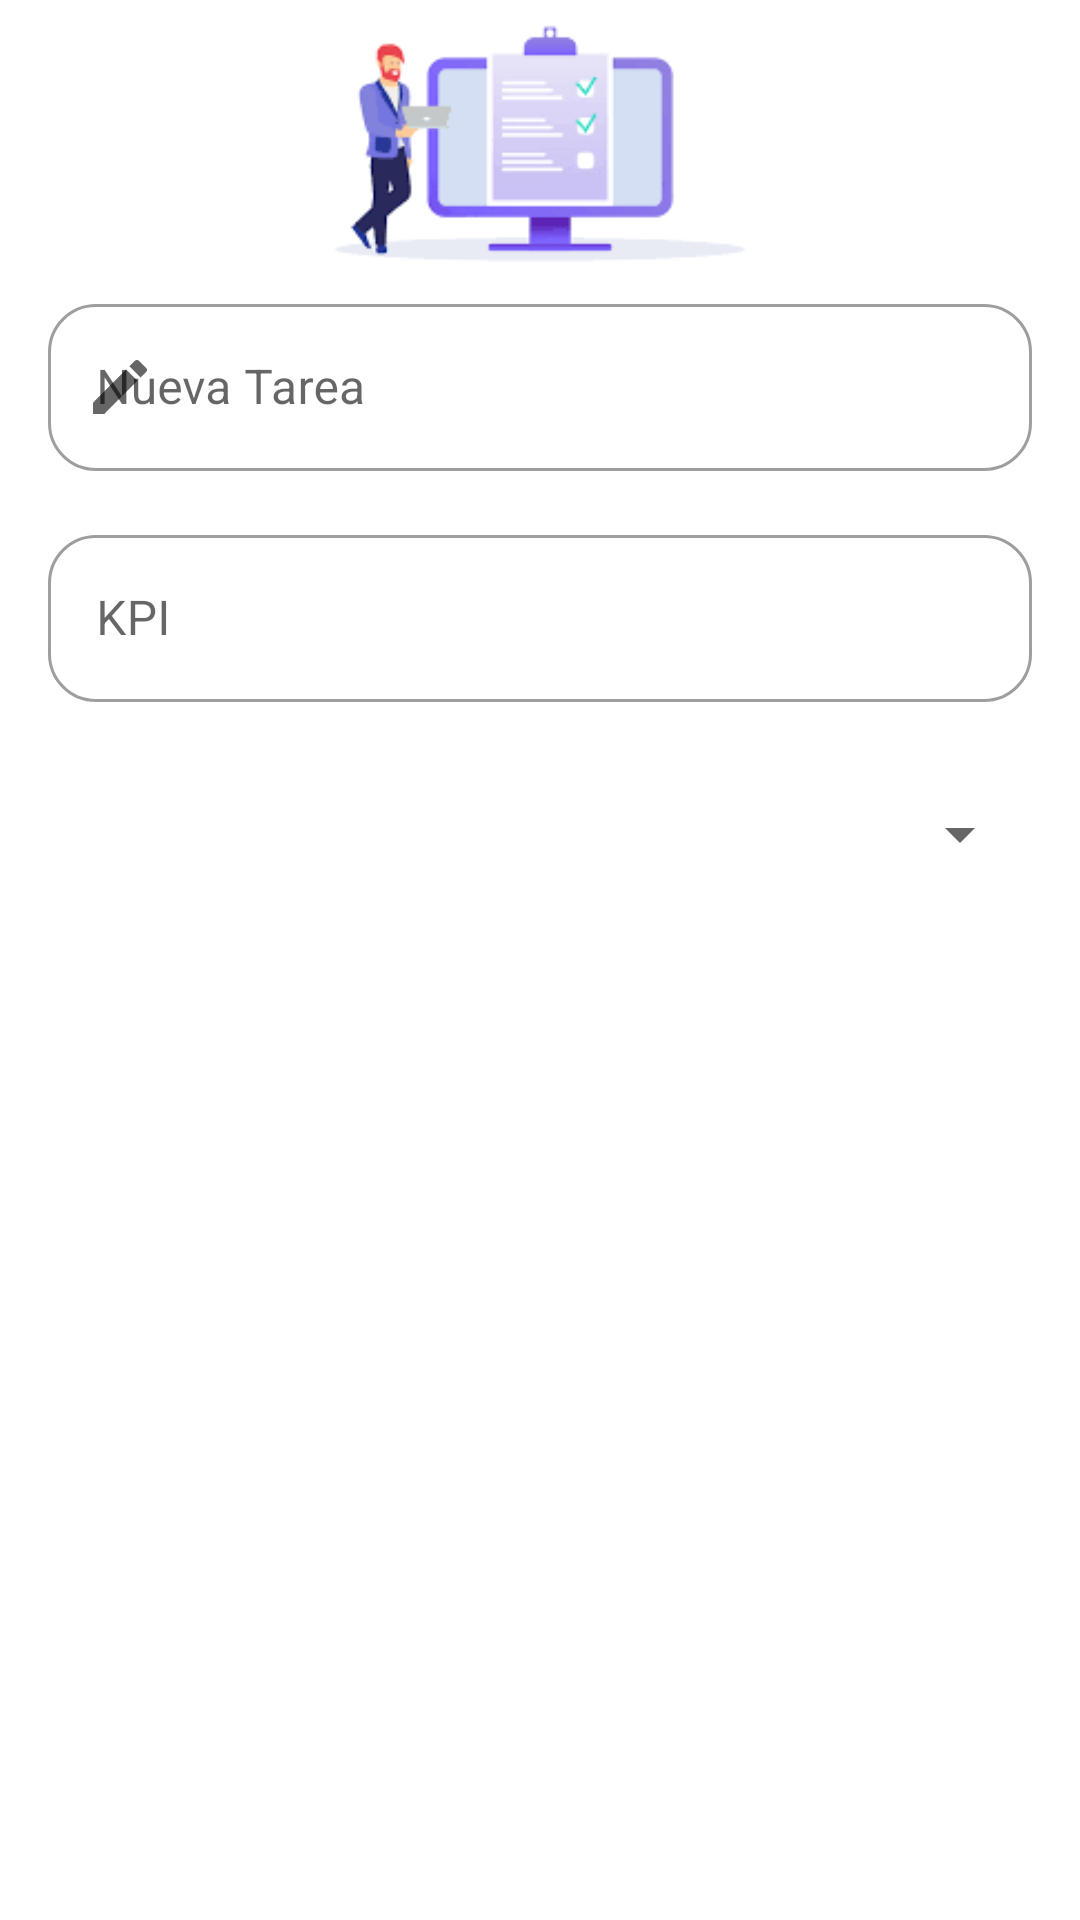

Point at icon controls on the screen. Image size 1080px x 1920px, points as (x=x, y=y).
Header: (x=512, y=141)
